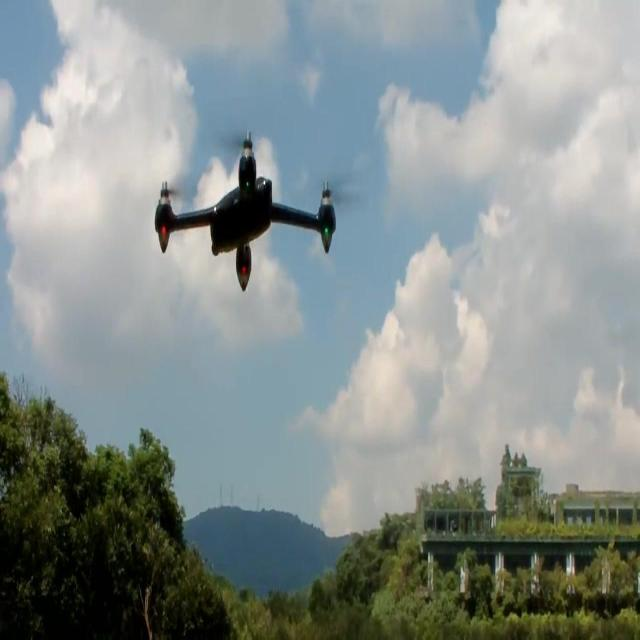drone: (154, 128, 336, 293)
